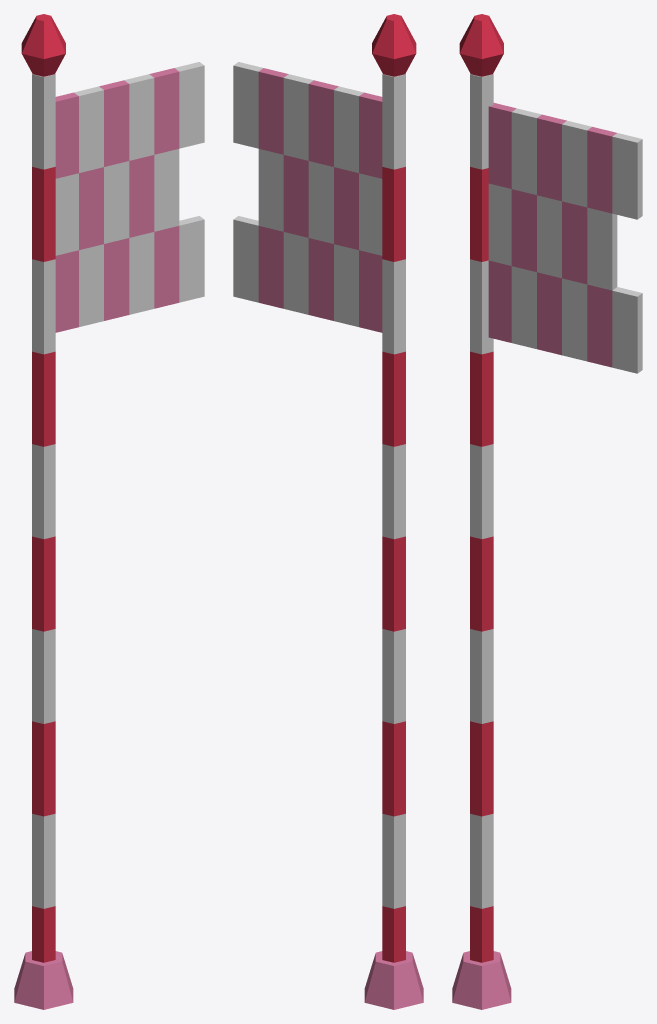
File: flag.glb
3 views of the same model, side by side, from view 1: azimuth 30°, elevation 25°; view 2: azimuth 150°, elevation 25°; view 3: azimuth 330°, elevation 25° (orthographic).
Visible parts, largest first — view 1: candyLand-flag; view 2: candyLand-flag; view 3: candyLand-flag.
Part boxes in pixels (<box>): candyLand-flag: <box>14,14,204,1009</box>; candyLand-flag: <box>233,14,423,1009</box>; candyLand-flag: <box>452,14,642,1009</box>.
Size of the model in its own units: 0.255 by 1.27 by 0.0693.
